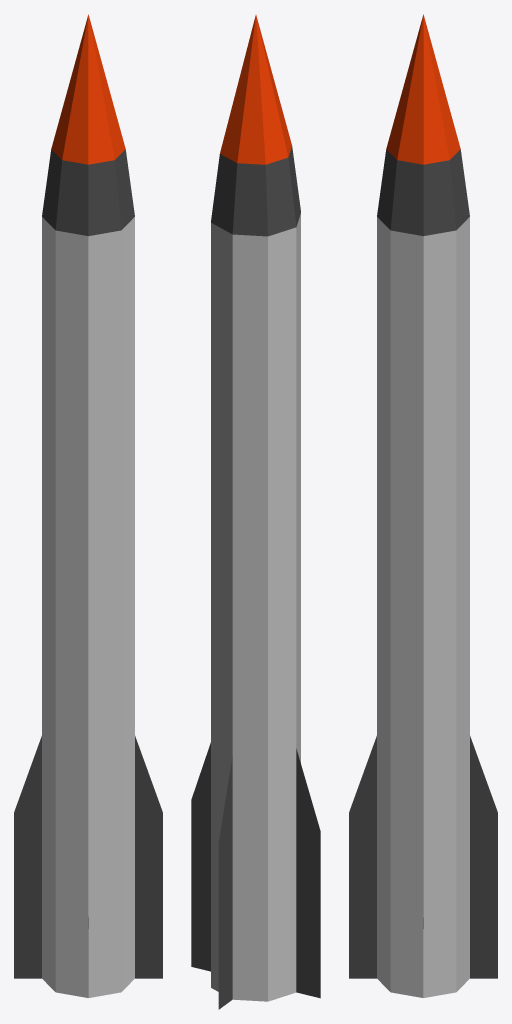
Rendered from Item_Rocket.fbx.
3 renders of one model, left to right at view 1: azimuth 90°, elevation 25°; view 2: azimuth 150°, elevation 25°; view 3: azimuth 270°, elevation 25°, orthographic.
Parts seen in each view (by area): view 1: C-rocket; view 2: C-rocket; view 3: C-rocket.
Part boxes in pixels (x1,y1,x2,y2): C-rocket: (14,14,162,997); C-rocket: (191,15,320,1009); C-rocket: (349,14,497,997).
Bounding box in the file's own units: 17.5 × 125 × 17.5.
